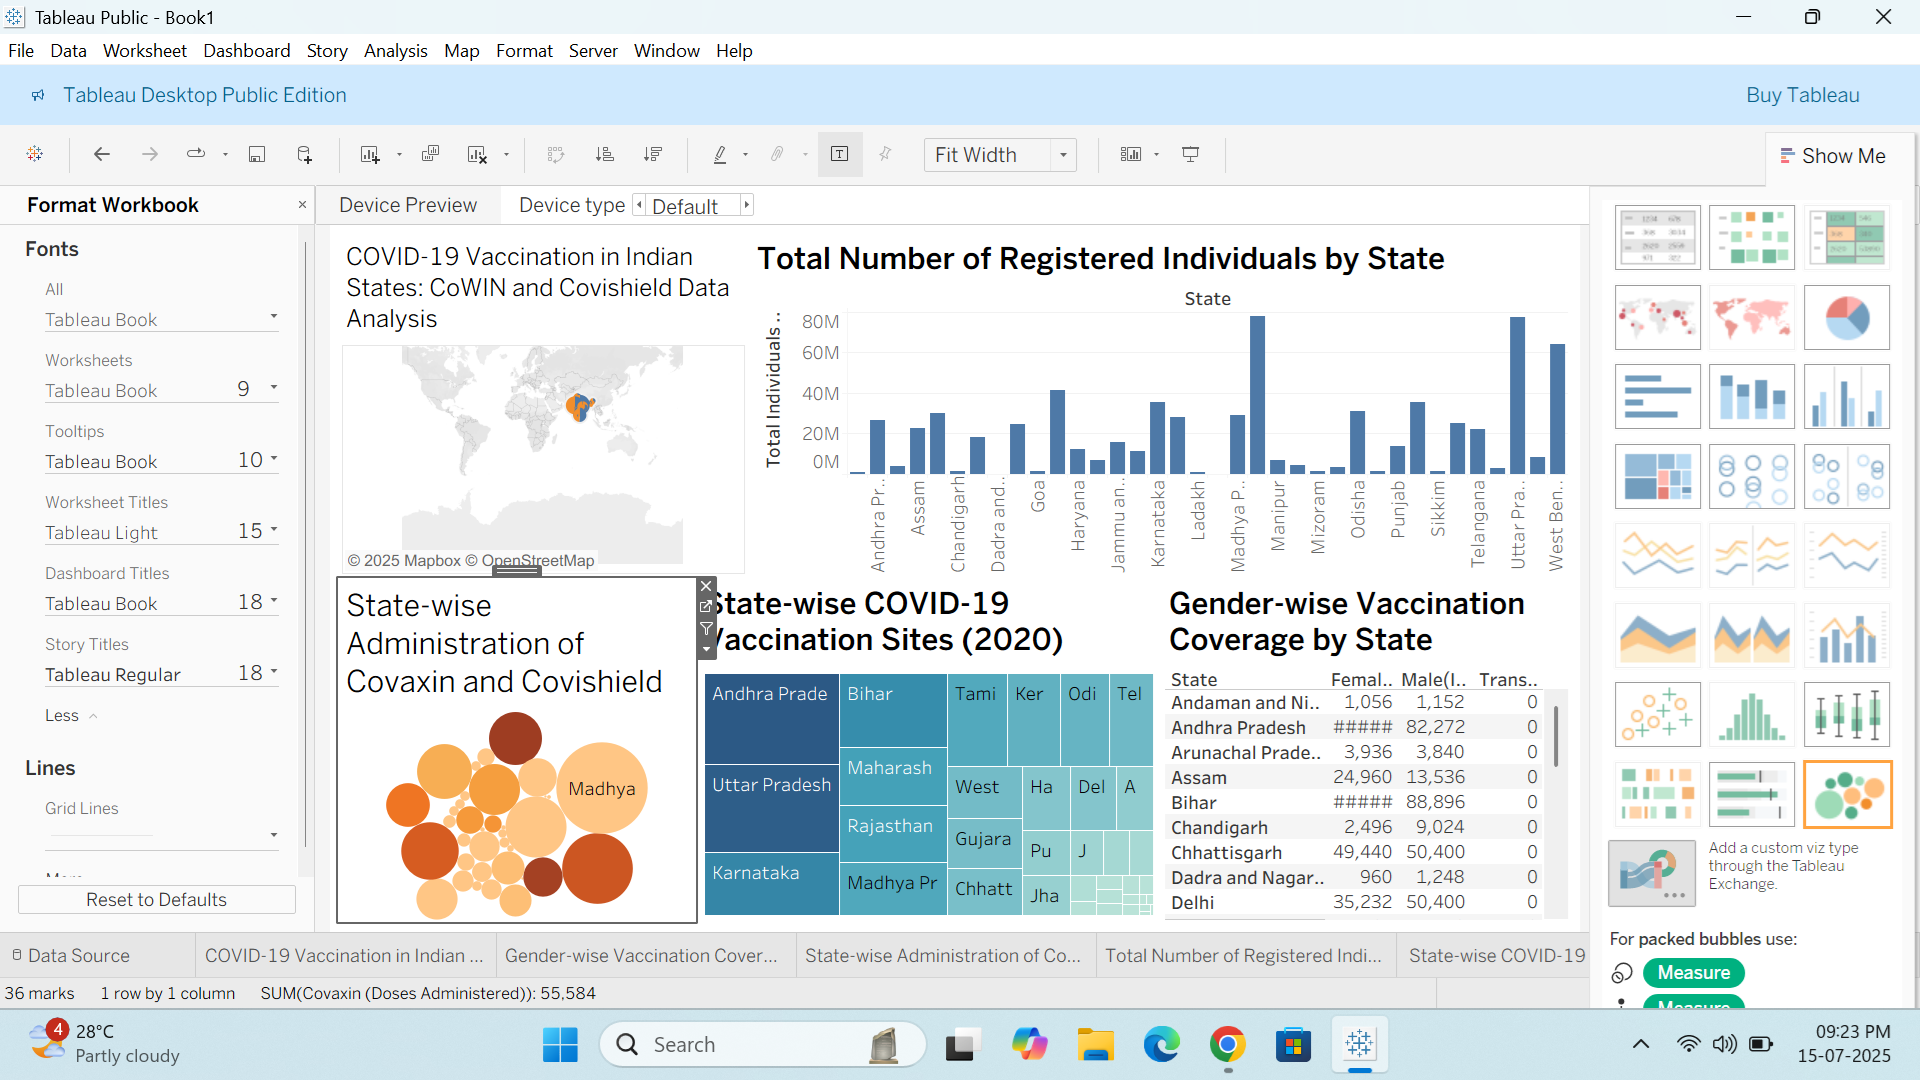

This screenshot's page, from the dashboard's own definition file:
{"tool":"tableau","page":{"name":"Dashboard 1","canvas":[1000,1000],"units":"permille","ordinal":0},"visuals":[{"type":"worksheet","title":"COVID-19 Vaccination in Indian States: CoWIN and Covishield Data Analysis","mark":"Pie","box":[6.4,11.3,328.8,488.6]},{"type":"worksheet","title":"Total Number of Registered Individuals by State","mark":"Automatic","rows":["Total Individuals Registered"],"cols":["State"],"box":[335.2,11.3,658.4,488.6]},{"type":"worksheet","title":"State-wise Administration of Covaxin and Covishield","mark":"Circle","box":[6.4,499.9,286.4,488.8]},{"type":"worksheet","title":" State-wise COVID-19 Vaccination Sites (2020)","mark":"Automatic","box":[292.8,499.9,371.7,488.8]},{"type":"worksheet","title":"Gender-wise Vaccination Coverage by State","mark":"Automatic","rows":["State"],"box":[664.5,499.9,329.1,488.8]}]}

Visuals, with their boxes on the dashboard's canvas, which has no fixed pixel size, in thousandths of its width and height (x1, y1, x2, y2). These are canvas units, not pixel positions in the 1920x1080 screenshot, which may show the page scaled, cropped or inside an application window:
"COVID-19 Vaccination in Indian States: CoWIN and Covishield Data Analysis" worksheet (Pie marks): bbox=[6, 11, 335, 500]
"Total Number of Registered Individuals by State" worksheet: bbox=[335, 11, 994, 500]
"State-wise Administration of Covaxin and Covishield" worksheet (Circle marks): bbox=[6, 500, 293, 989]
" State-wise COVID-19 Vaccination Sites (2020)" worksheet: bbox=[293, 500, 664, 989]
"Gender-wise Vaccination Coverage by State" worksheet: bbox=[664, 500, 994, 989]
